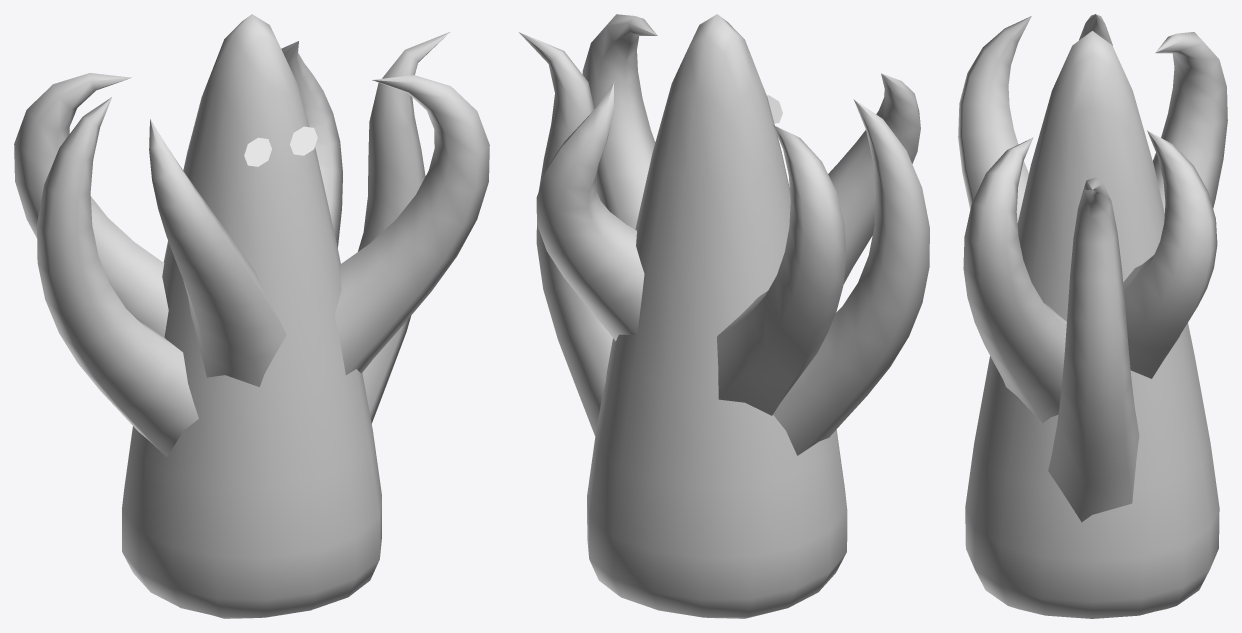
File: character.glb
3 renders of one model, left to right at view 1: azimuth 30°, elevation 25°; view 2: azimuth 150°, elevation 25°; view 3: azimuth 270°, elevation 25°, orthographic. The views are drawn at different scales.
Visible parts, largest first — view 1: body; view 2: body; view 3: body.
Part boxes in pixels (bbox=[...]): body: bbox=[14, 14, 489, 618]; body: bbox=[519, 14, 929, 618]; body: bbox=[958, 14, 1227, 618].
Size of the model in its own units: 2.67 by 3.57 by 1.57.
2 materials, 1 textured.
